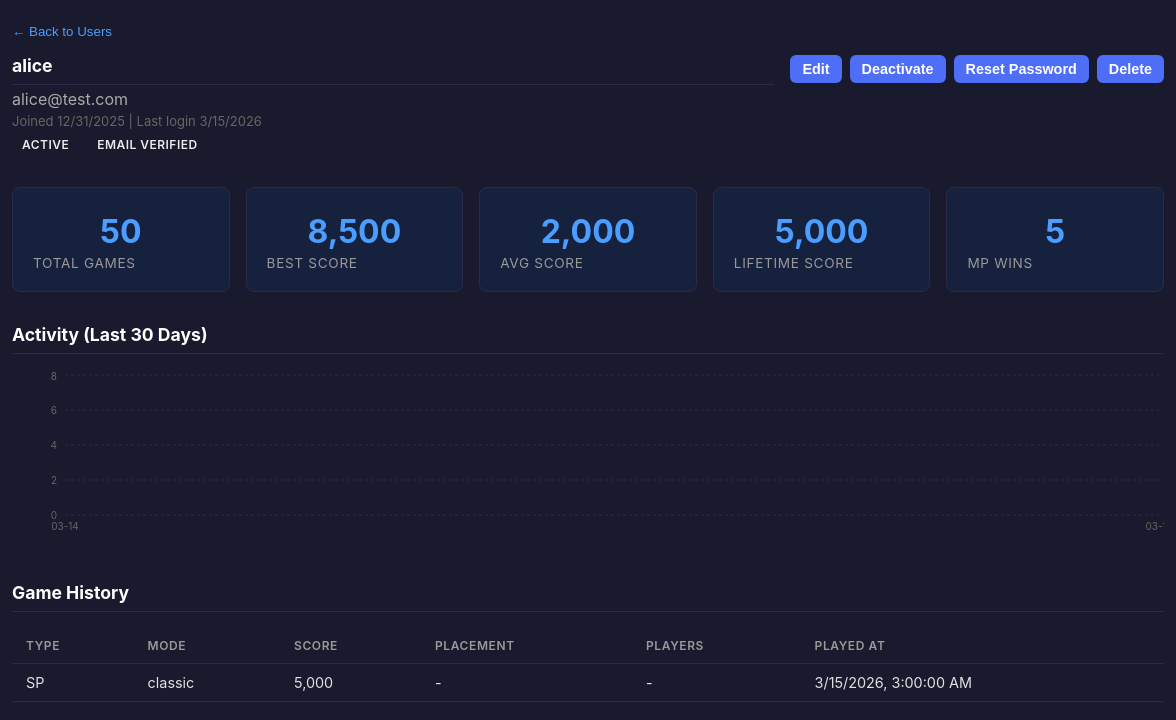
AdminUserDetailPage › reset password shows temporary password
Click the button with test id "btn-reset-password". click: {"x": 1021, "y": 69}
box: [954,55,1089,83]
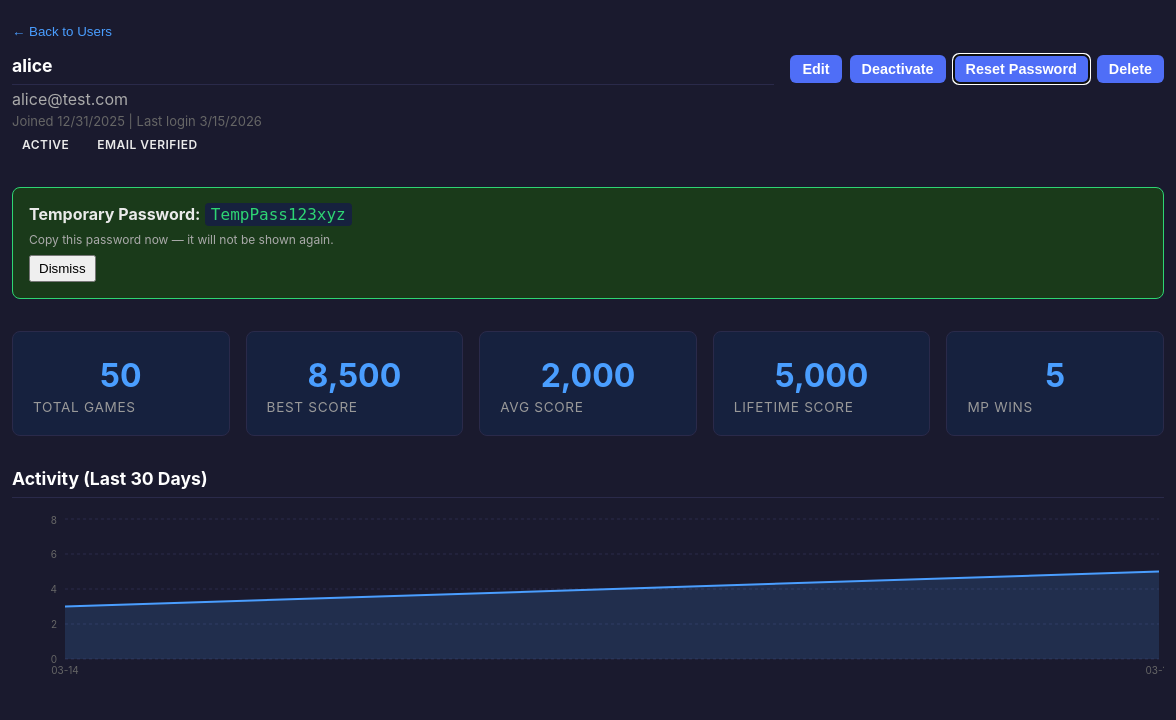
Result: the text "TempPass123xyz" is shown at [205,203,352,226]
